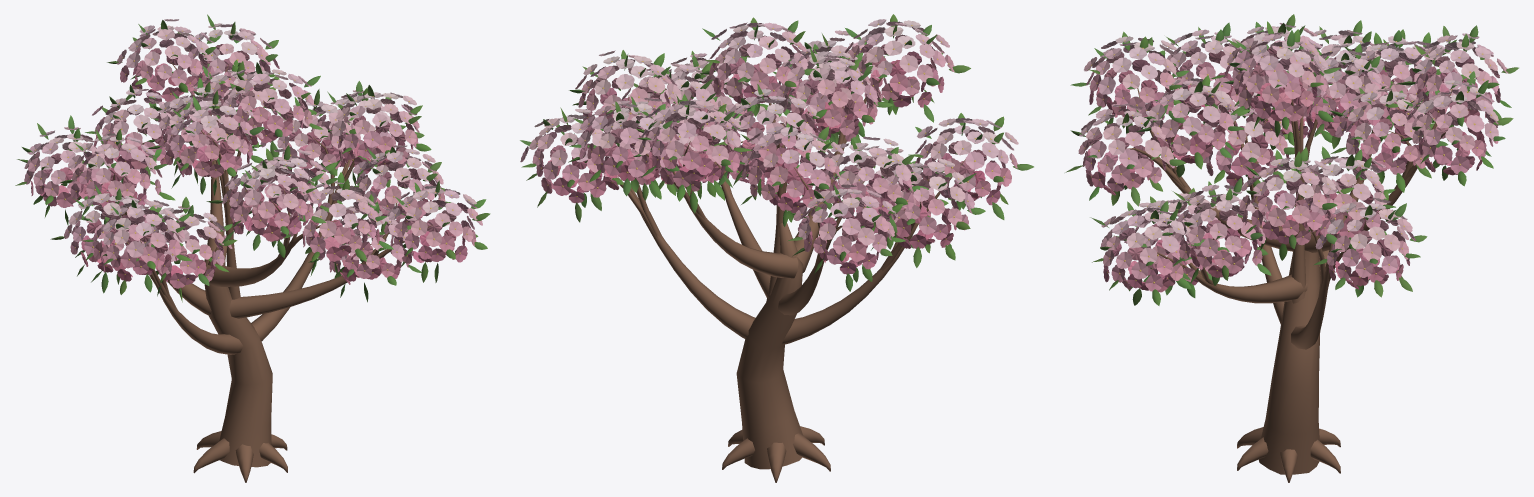
The model's file is cherry.glb.
3 views of the same model, side by side, from view 1: azimuth 30°, elevation 25°; view 2: azimuth 150°, elevation 25°; view 3: azimuth 270°, elevation 25° (orthographic). The views are drawn at different scales.
Visible parts, largest first — view 1: blossom, bark, leaf; view 2: blossom, bark, leaf; view 3: blossom, bark, leaf.
Part boxes in pixels (x1=…): blossom: x1=24, y1=19, x2=482, y2=288; bark: x1=68, y1=60, x2=432, y2=482; leaf: x1=15, y1=14, x2=490, y2=302; blossom: x1=520, y1=19, x2=1018, y2=274; bark: x1=618, y1=61, x2=965, y2=482; leaf: x1=520, y1=14, x2=1033, y2=291; blossom: x1=1078, y1=23, x2=1508, y2=292; bark: x1=1125, y1=78, x2=1452, y2=482; leaf: x1=1065, y1=14, x2=1518, y2=305.
Bounding box in the file's own units: 4.46 × 4.42 × 4.15.
